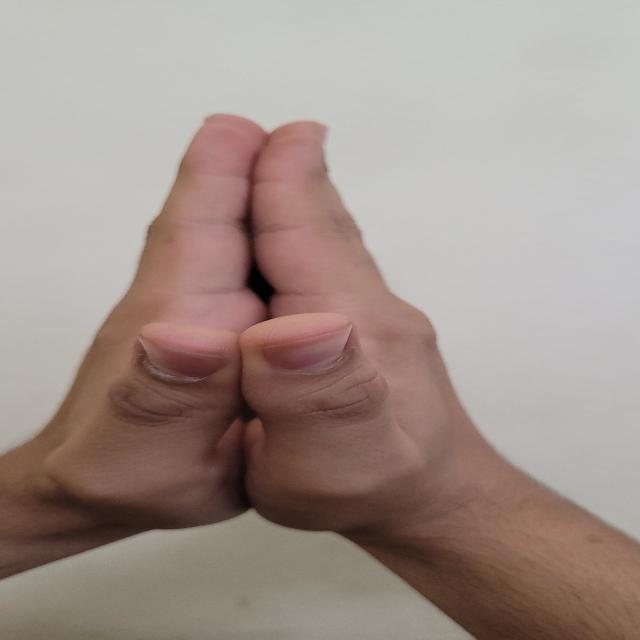Thank You: (26, 80, 540, 567)
